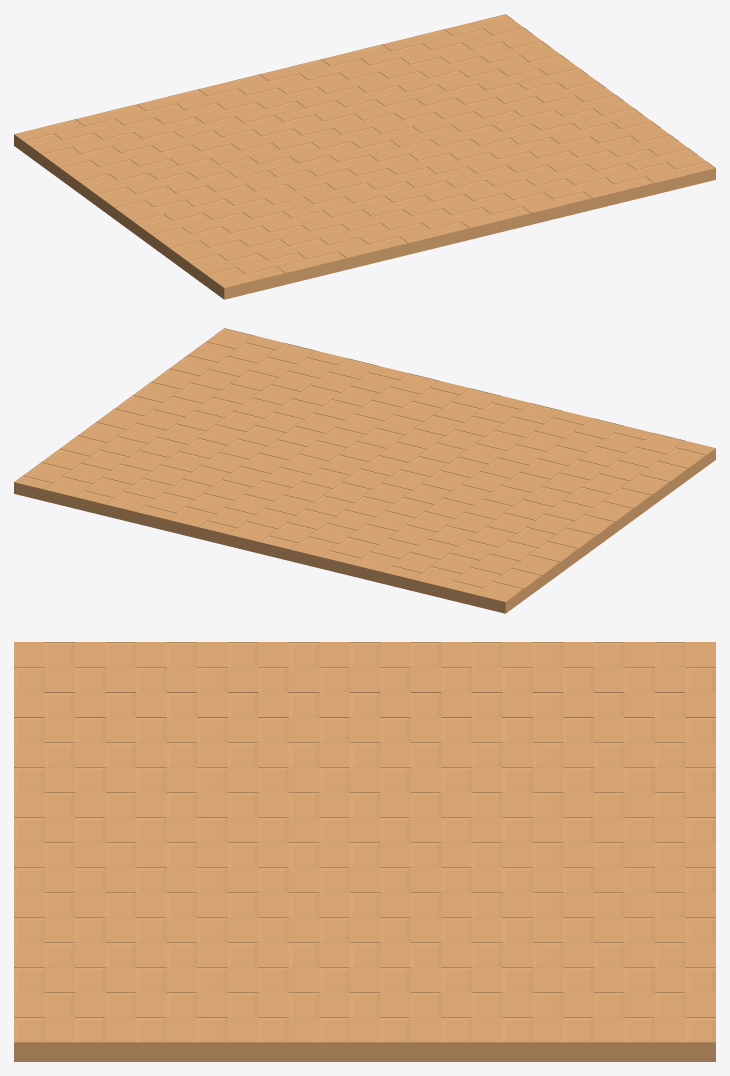
The model's file is Ground.glb.
3 views of the same model, one above another, from view 1: azimuth 30°, elevation 25°; view 2: azimuth 150°, elevation 25°; view 3: azimuth 270°, elevation 25° (orthographic). The views are drawn at different scales.
Parts seen in each view (by area): view 1: Ground; view 2: Ground; view 3: Ground.
Boxes of the visible parts, x1,y1,x2,y2 form: Ground: (14,14,715,299); Ground: (14,328,715,613); Ground: (14,642,715,1061).
Size of the model in its own units: 17.99 by 0.4151 by 13.33.
